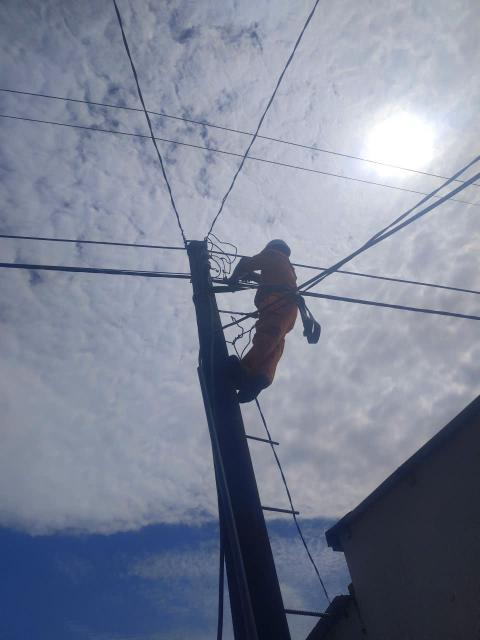gloves: (223, 257, 254, 282)
harness: (250, 282, 301, 302)
helmet: (262, 234, 293, 255)
shoes: (233, 375, 269, 407), (231, 350, 255, 385)
